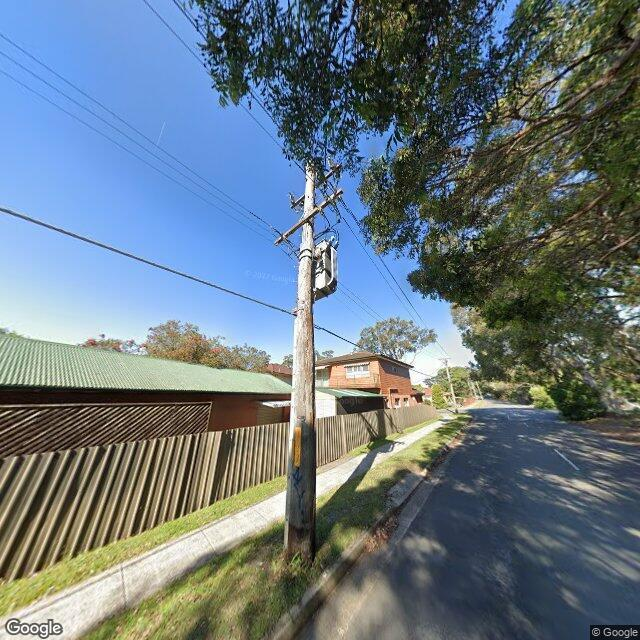crossarm: (275, 188, 343, 246), (290, 163, 343, 210), (438, 358, 452, 360)
timber-pole: (284, 158, 316, 562), (444, 358, 457, 413)
transformer: (310, 237, 340, 302)
